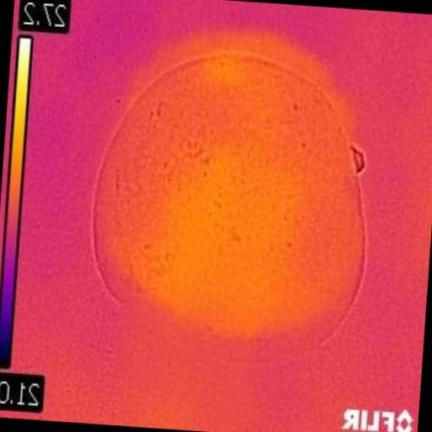mango: (95, 50, 364, 357)
